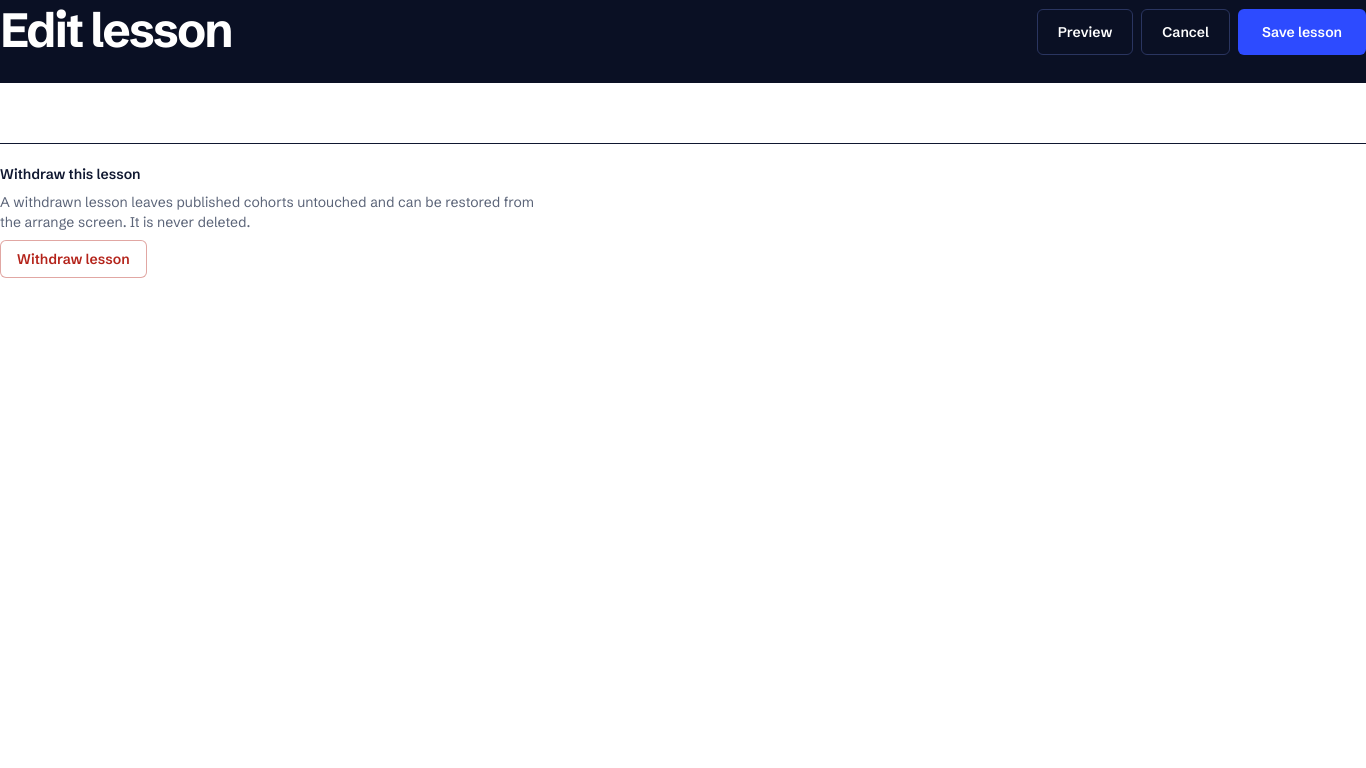
Test case: LessonEditorClient withdraw modal — no stale error on reopen › shows the failure alert for the attempt the user just made
Click the button "Withdraw lesson".
click(73, 259)  # box [0, 240, 147, 278]
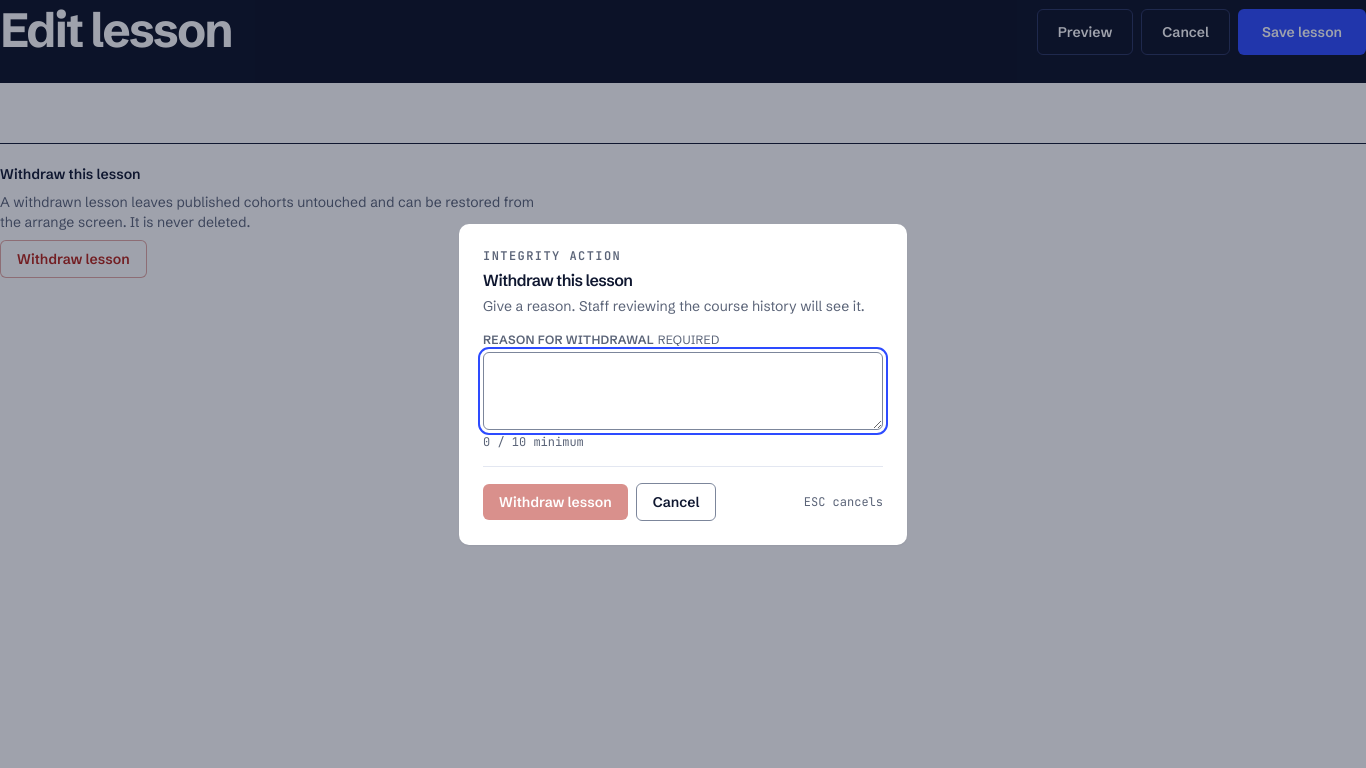
Type "Superseded by the 2026 rewrite" into the text box labelled "Reason for withdrawal".
click(683, 390); type("Superseded by the 2026 rewrite")  # box [483, 352, 883, 430]
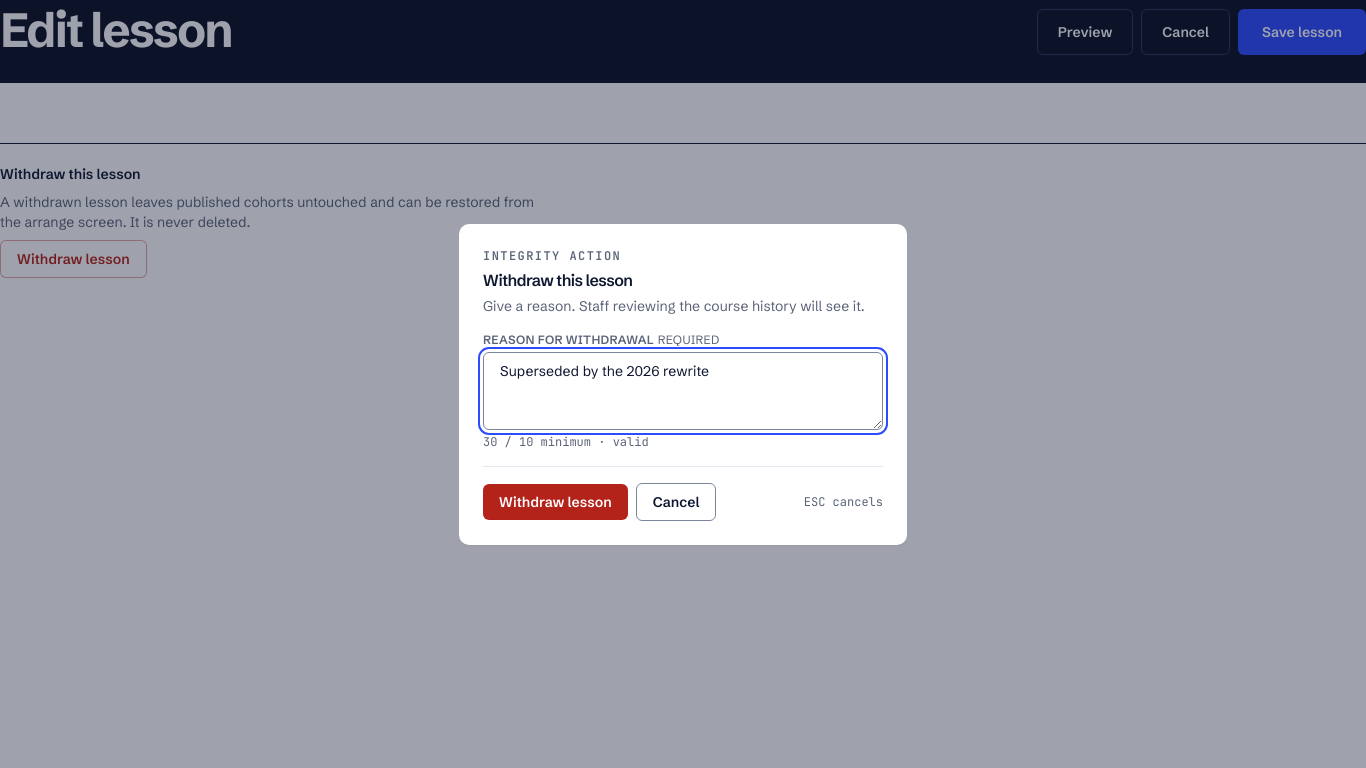
Click the button "Withdraw lesson".
click(555, 502)  # box [483, 484, 628, 520]
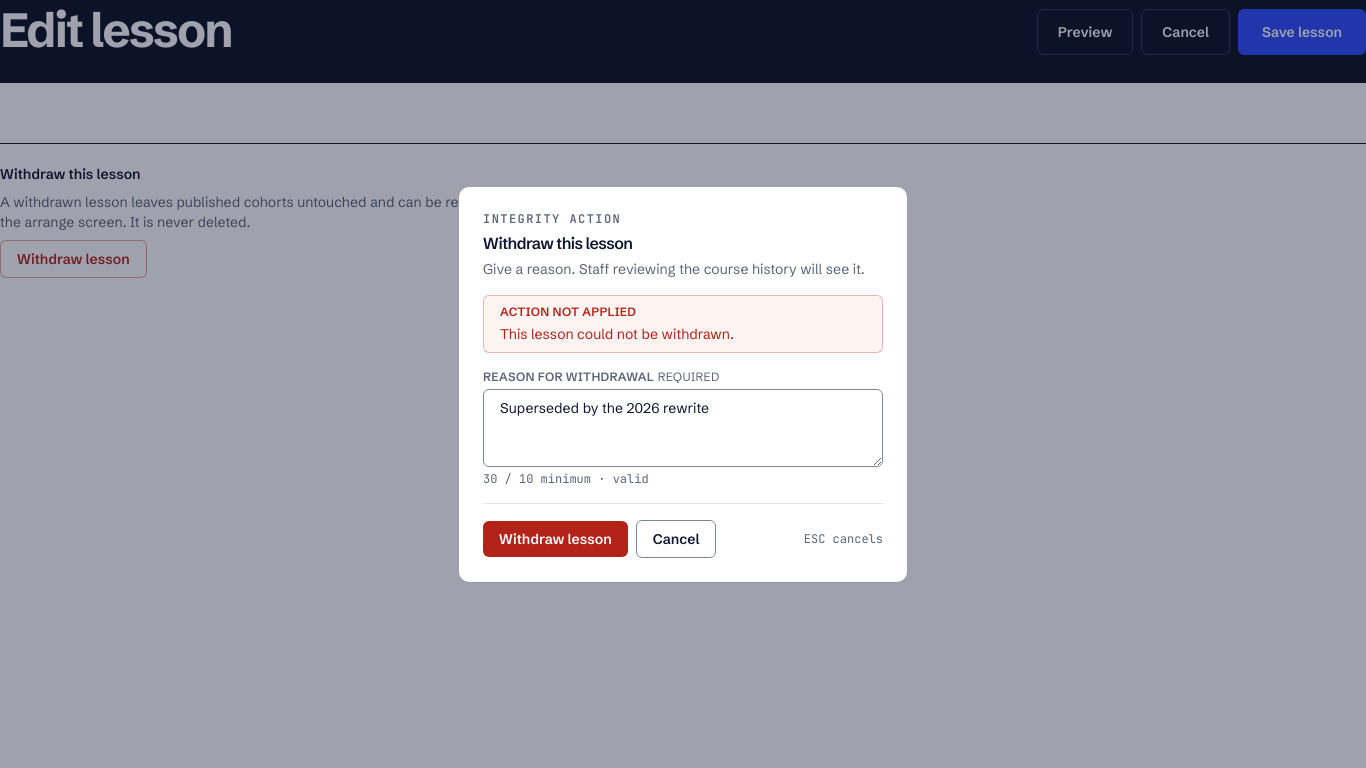
Expected: the message shows "Action not applied", [500, 304, 636, 318]
Expected: the message shows "could not be withdrawn", [500, 324, 734, 342]
